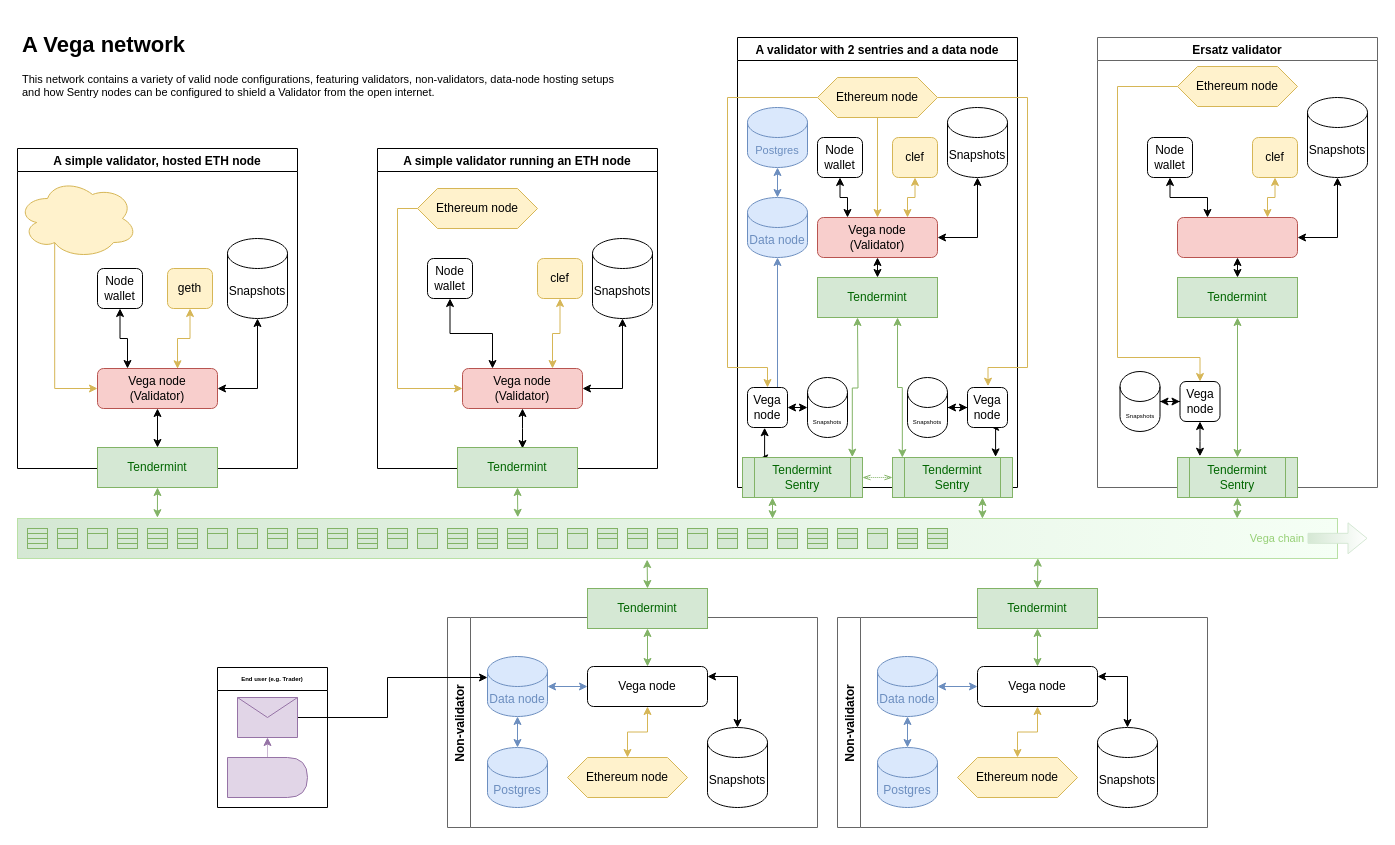
This 1395x845 diagram has some shape labels left out. The centre of each missing label's shape, as x and y in pixels:
Alchemy/Infura: point 77,218
Vega Console: point 267,777
Vega node (Validating): point 1237,237
Vega wallet: point 267,717
